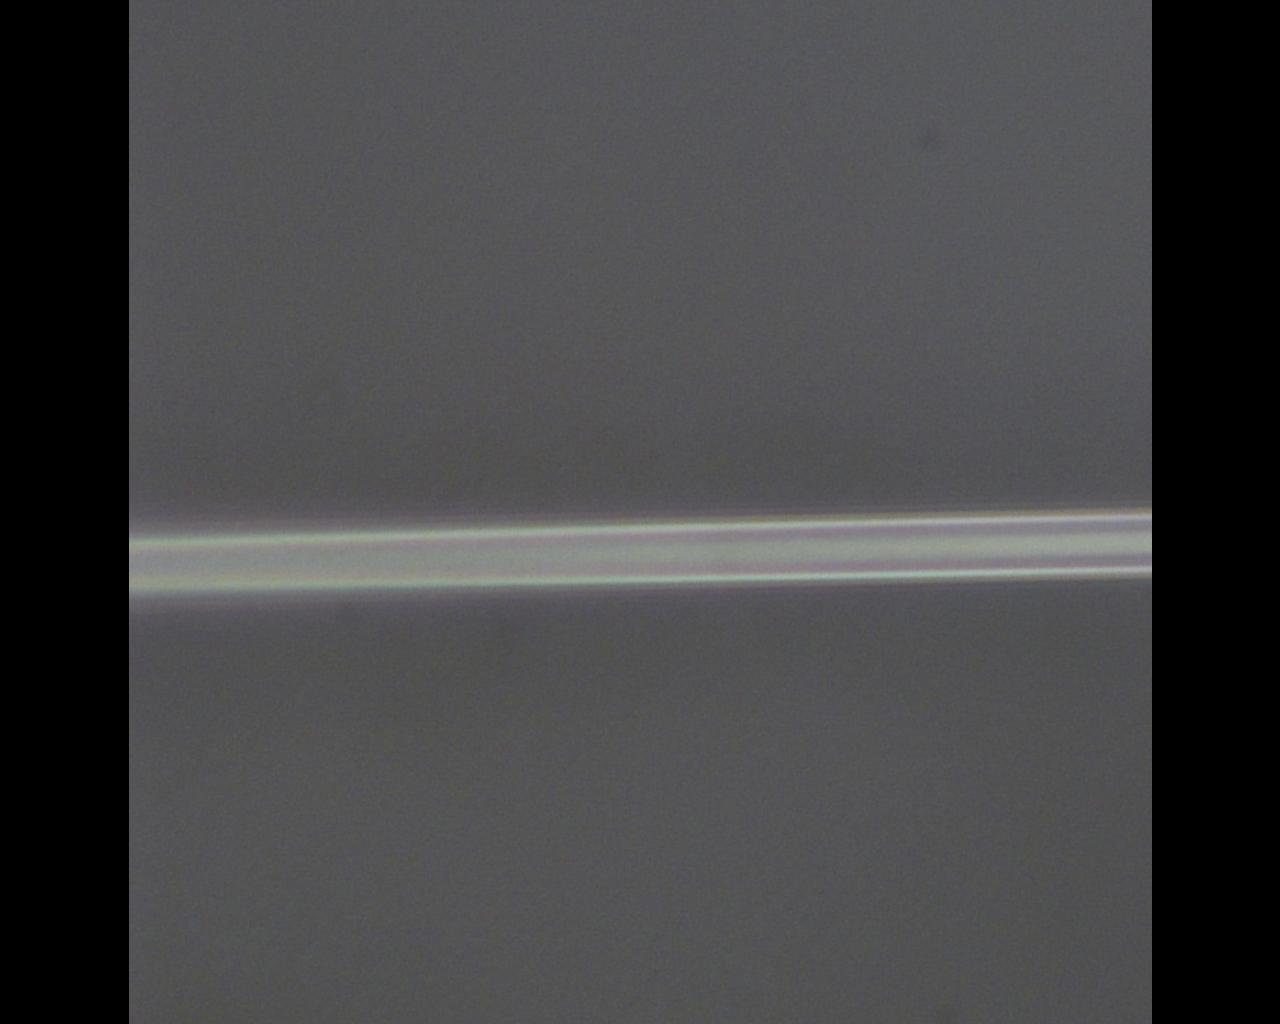fiber: (452, 0, 973, 1024)
